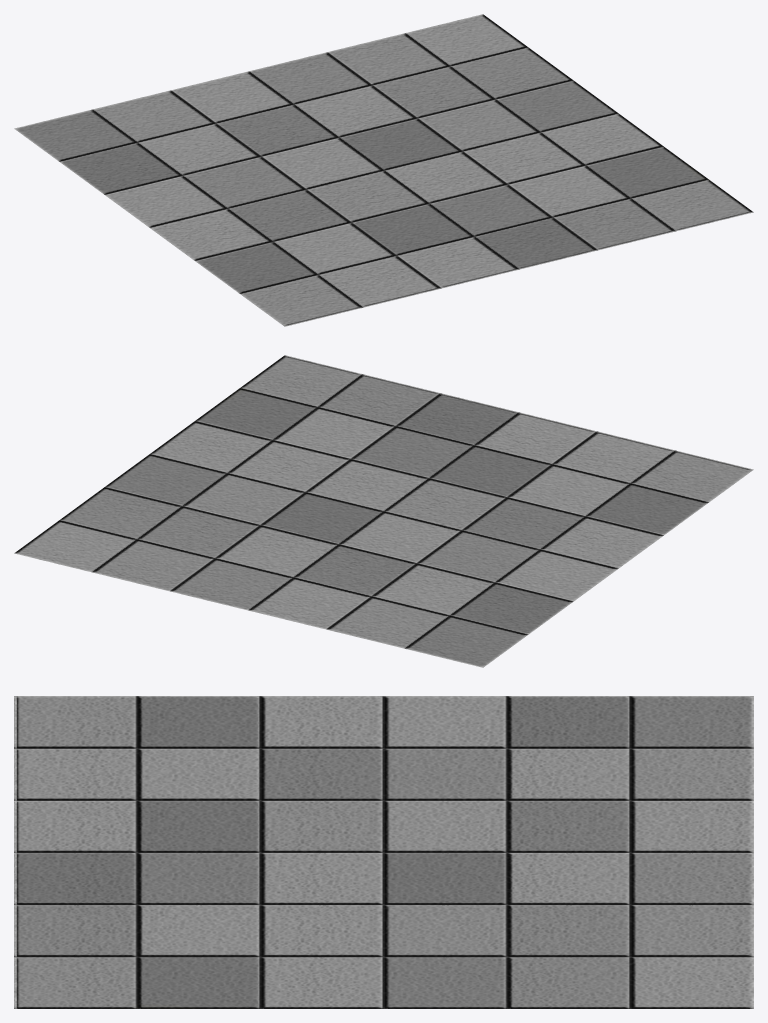
The model's file is Tile01_Flat.fbx.
3 views of the same model, one above another, from view 1: azimuth 30°, elevation 25°; view 2: azimuth 150°, elevation 25°; view 3: azimuth 270°, elevation 25° (orthographic). The views are drawn at different scales.
Parts seen in each view (by area): view 1: Tile01_Flat; view 2: Tile01_Flat; view 3: Tile01_Flat.
Boxes of the visible parts, bbox=[...] form: Tile01_Flat: bbox=[14, 14, 753, 326]; Tile01_Flat: bbox=[14, 355, 753, 667]; Tile01_Flat: bbox=[14, 696, 753, 1008].
Size of the model in its own units: 1 by 1.11e-16 by 1.
